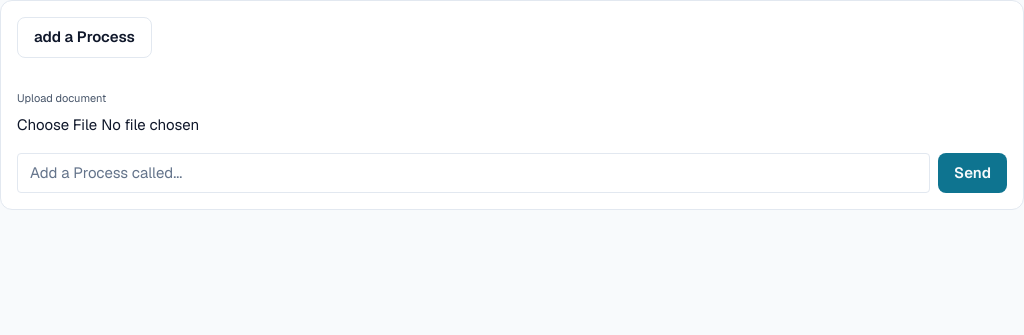
Scenario: ChatPanel quick-start + clear-history (TASK-031 AC-8) › sends the template text when a quick-start chip is clicked
This screenshot has width=1024, height=335.
Click the button "add a Process" at {"x": 84, "y": 37}, box [17,17,152,58]
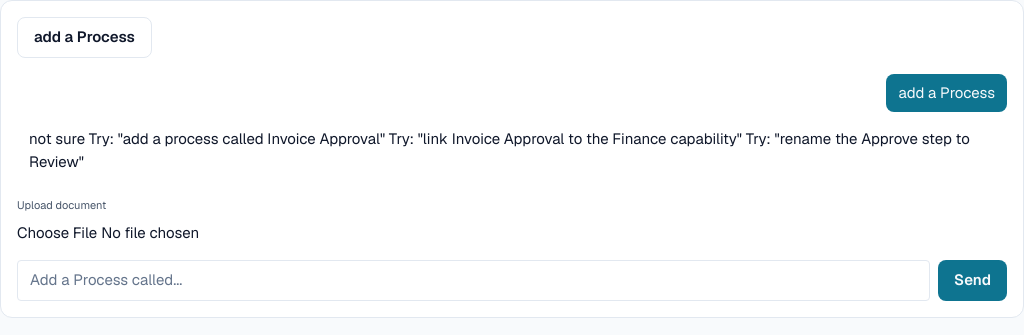
Expected: the list item "not sure" is shown, [29,129,970,170]
